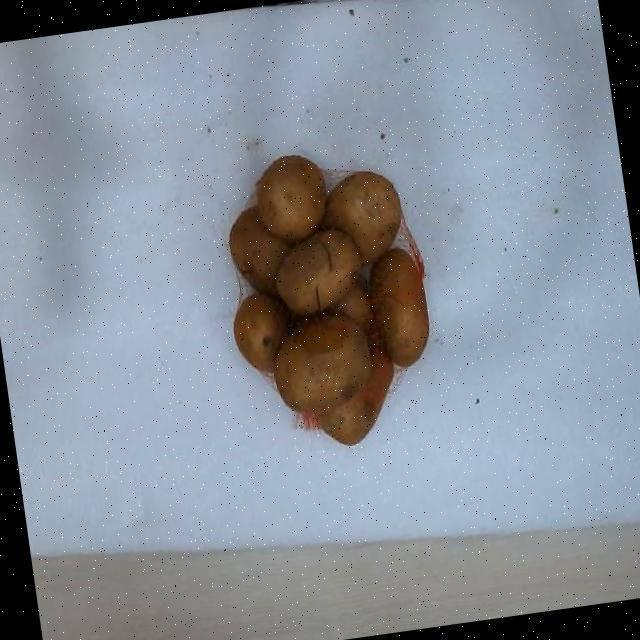potato: (274, 313, 369, 413), (319, 347, 393, 446), (323, 172, 401, 263), (369, 249, 428, 367), (277, 229, 360, 312), (257, 156, 324, 238), (230, 206, 289, 294), (235, 294, 287, 372)
